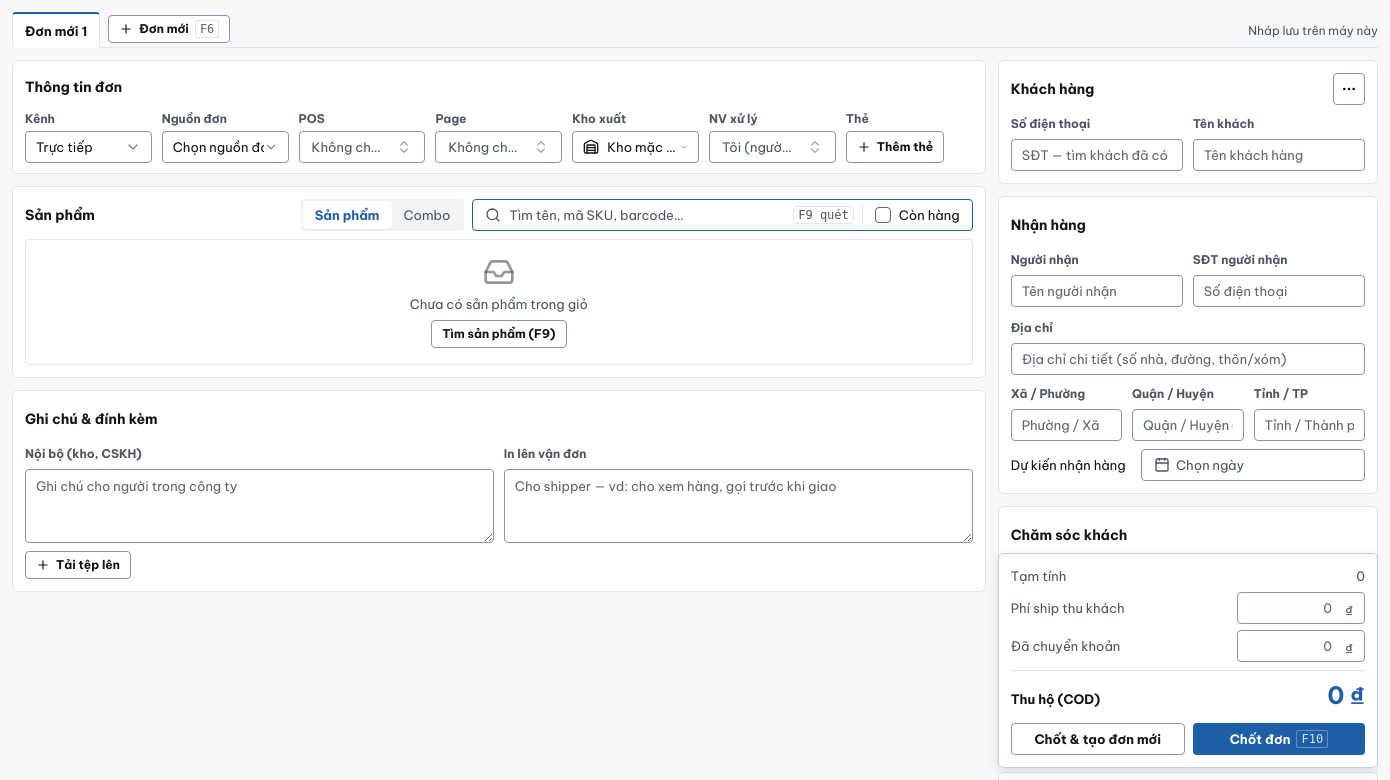
Scenario: OrderCreateScreen — màn tạo đơn mới › giỏ trống, chưa có khách → báo lỗi tại ô, KHÔNG gọi API
The image size is (1390, 780).
Expected: the text "Chưa có sản phẩm trong giỏ" is shown, [410,294,588,314]
Click the button "Chốt đơn F10" at coordinates (1279, 739), box [1193,723,1365,755]
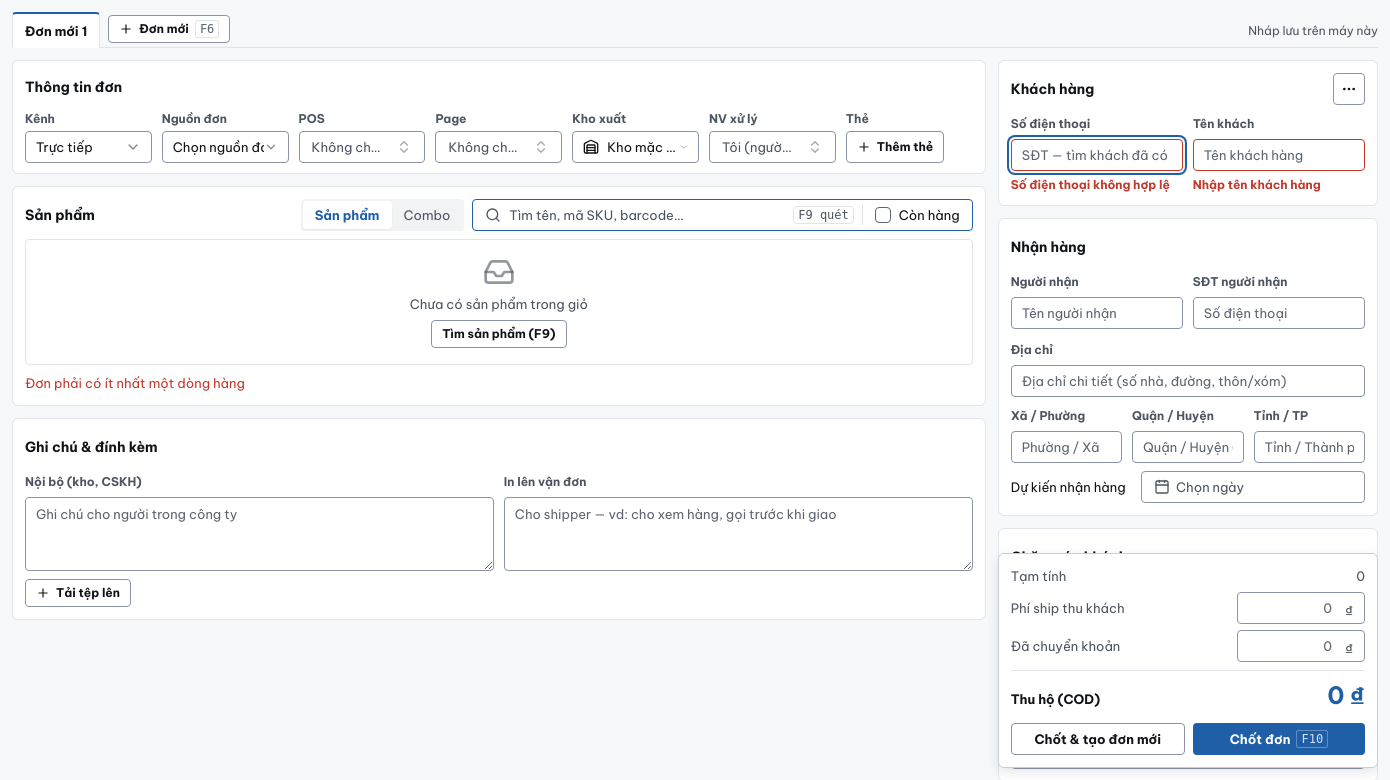
Expected: the text "Nhập tên khách hàng" is shown, [1193,177,1320,192]
Expected: the text "Đơn phải có ít nhất một dòng hàng" is shown, [25,375,245,391]
